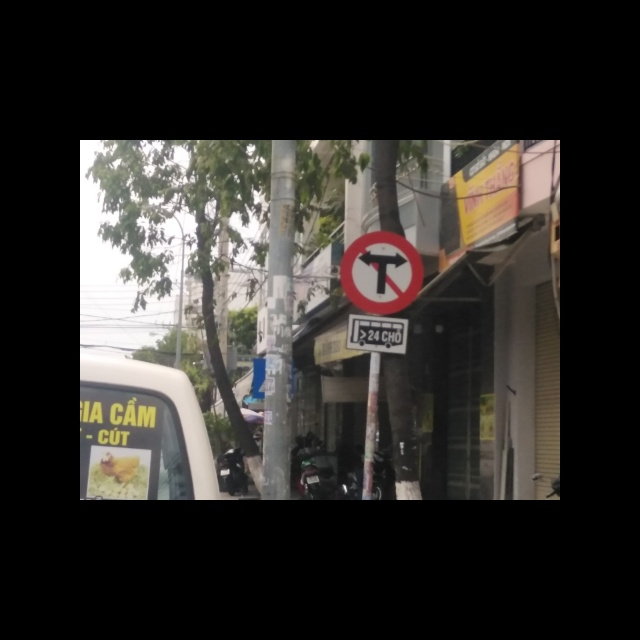Cấm rẽ trái và rẽ phải: (340, 231, 427, 317)
